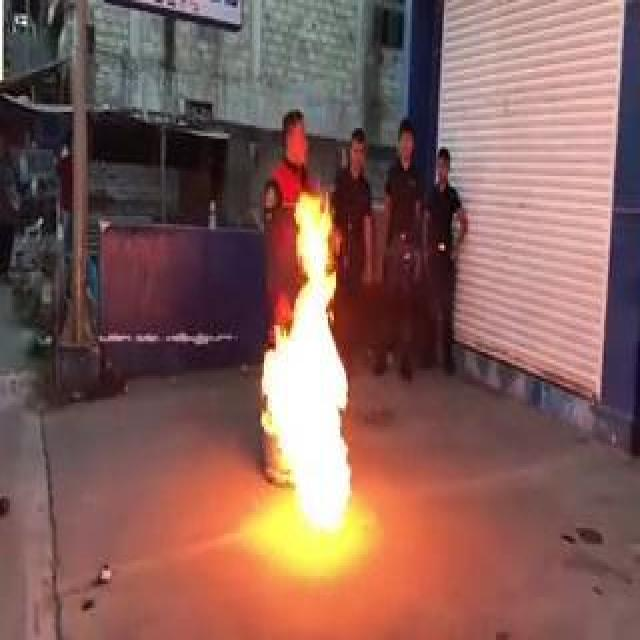Fire: (260, 185, 356, 535)
